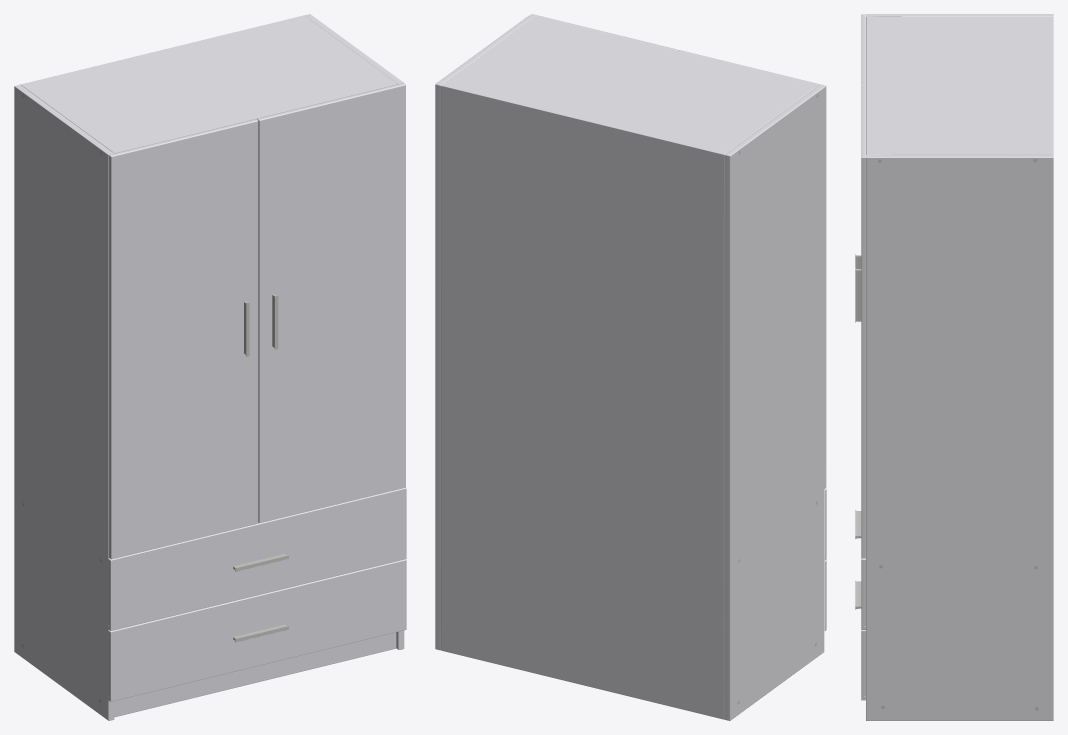
File: cabinet_B07GFFPKFV.glb
The picture shows the model from 3 angles, left to right: view 1: azimuth 30°, elevation 25°; view 2: azimuth 150°, elevation 25°; view 3: azimuth 270°, elevation 25°; orthographic projection.
Parts seen in each view (by area): view 1: Root; view 2: Root; view 3: Root.
Part boxes in pixels (x1,y1,x2,y2): Root: [14, 14, 406, 720]; Root: [435, 14, 826, 720]; Root: [855, 14, 1053, 720].
Size of the model in its own units: 0.9905 by 1.81 by 0.577.
1 material, 1 textured.
